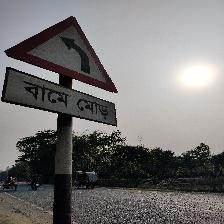Left-Turn: (1, 15, 119, 127)
